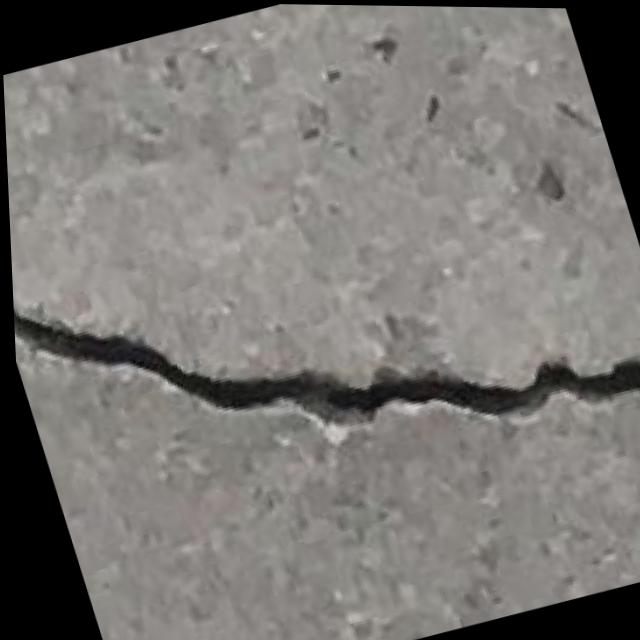Crack: (4, 116, 640, 568)
